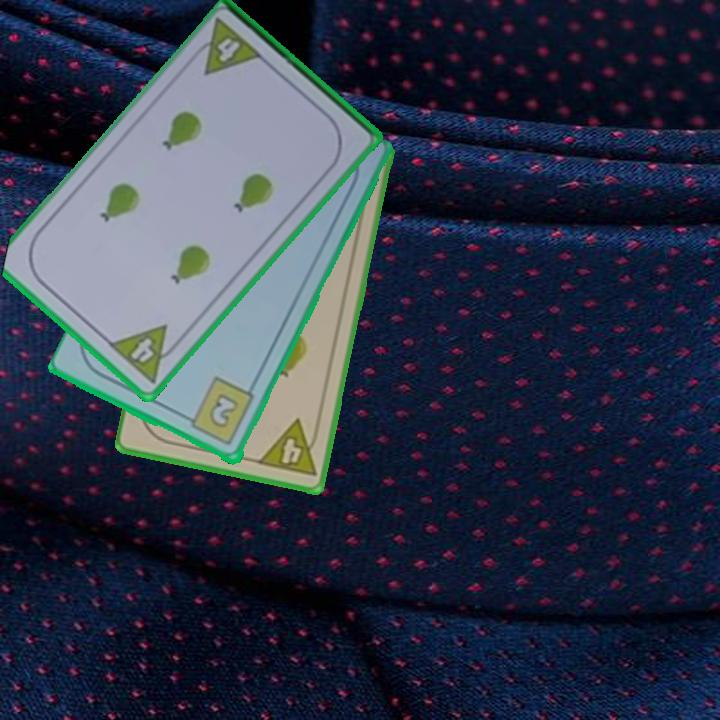2b: (179, 374, 258, 449)
4p: (105, 321, 186, 387), (186, 16, 267, 78), (254, 416, 324, 480)
